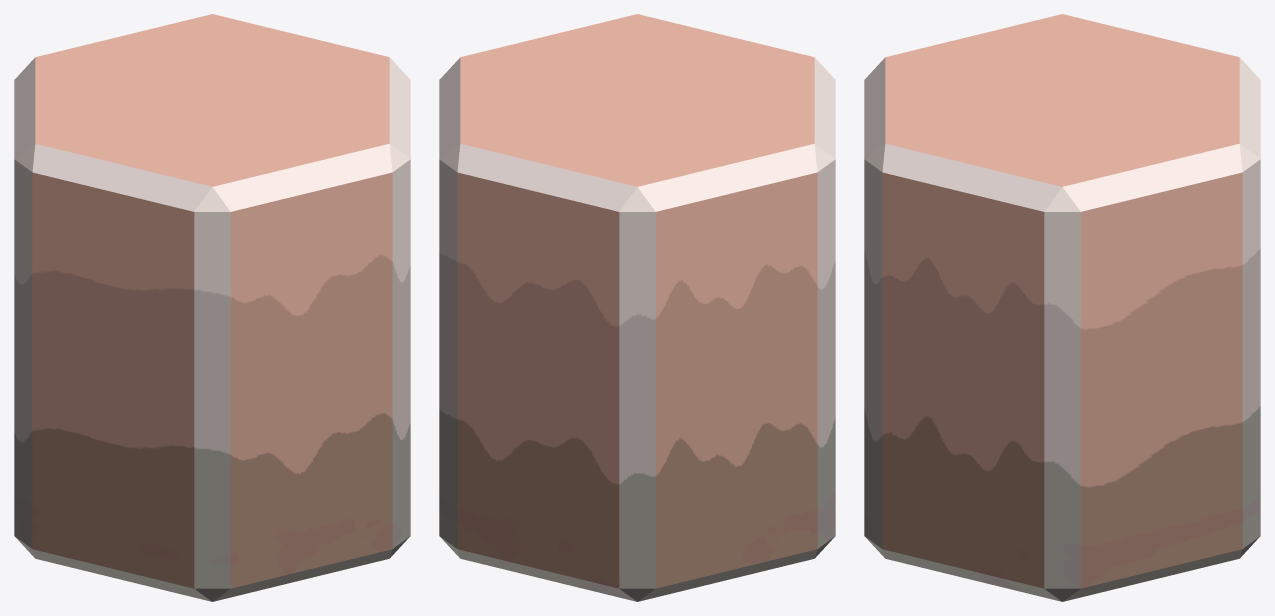
File: R4B_HexColumn_LOD1.glb
3 renders of one model, left to right at view 1: azimuth 30°, elevation 25°; view 2: azimuth 150°, elevation 25°; view 3: azimuth 270°, elevation 25°, orthographic.
Visible parts, largest first — view 1: R4B_HexColumn_LOD1; view 2: R4B_HexColumn_LOD1; view 3: R4B_HexColumn_LOD1.
Part boxes in pixels (<box>): R4B_HexColumn_LOD1: <box>14,14,410,601</box>; R4B_HexColumn_LOD1: <box>439,14,835,601</box>; R4B_HexColumn_LOD1: <box>864,14,1260,601</box>.
Size of the model in its own units: 0.496 by 0.52 by 0.4503.
2 materials, 2 textured.
